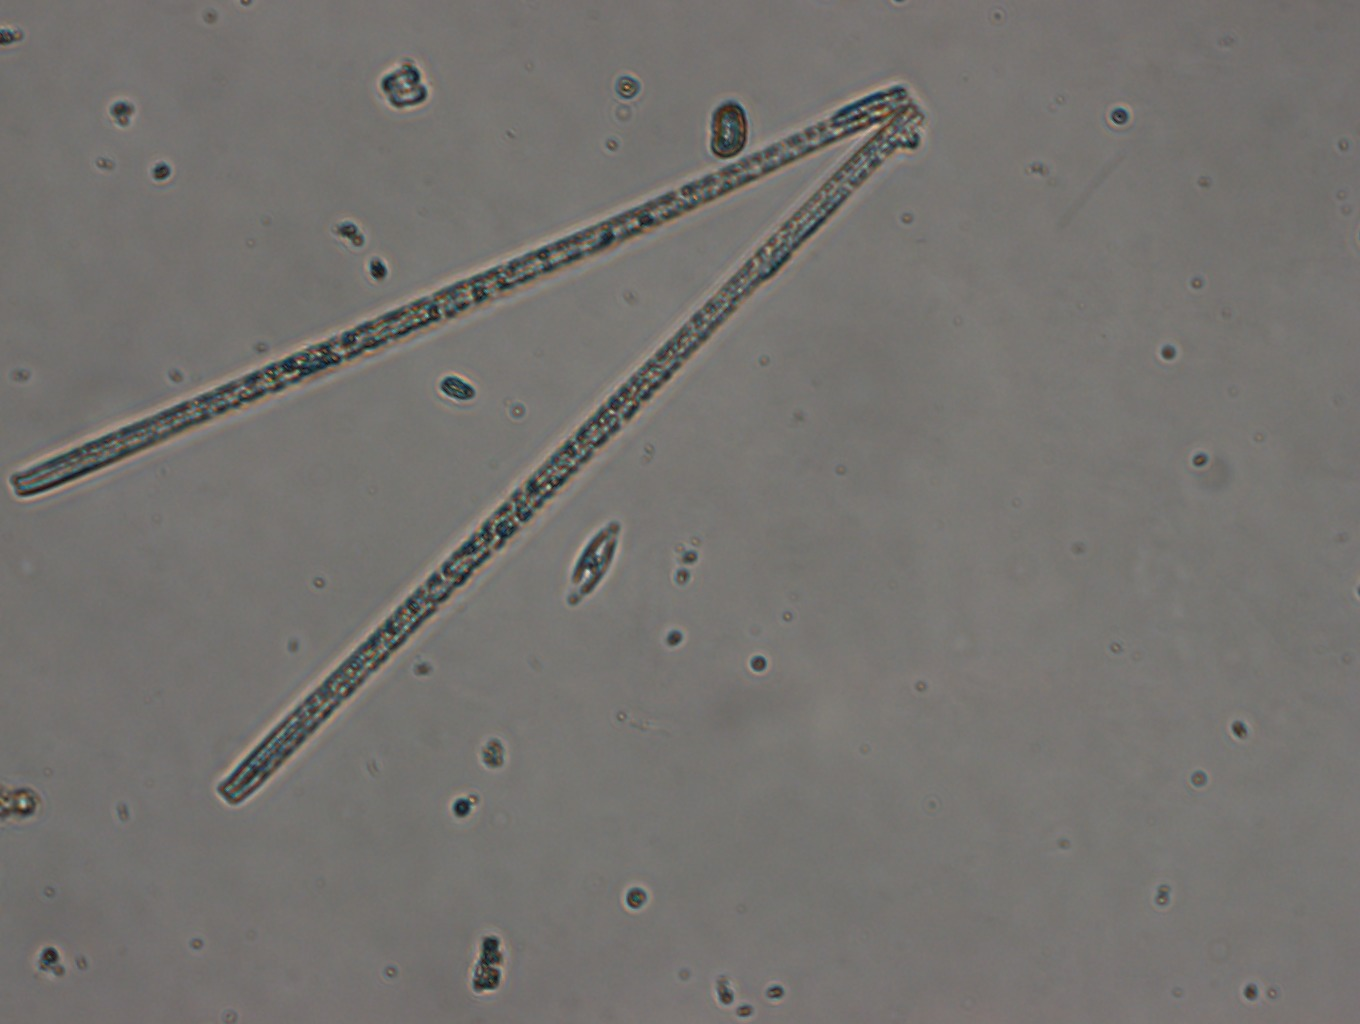navicula: (562, 516, 622, 610)
thalassionema frauenfeldii: (6, 79, 925, 806)
